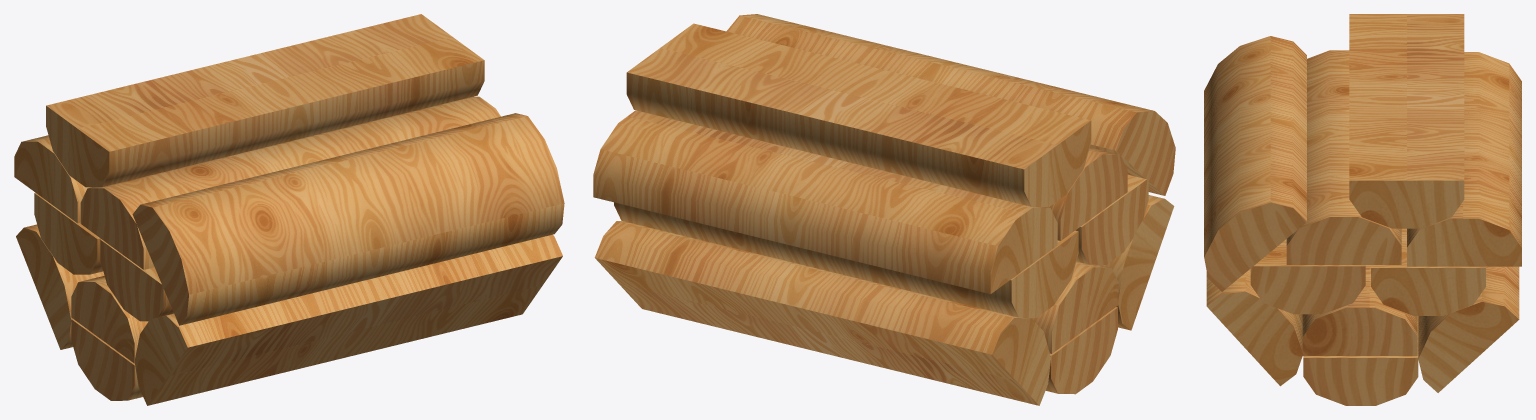
File: Fire_Wood.fbx
3 renders of one model, left to right at view 1: azimuth 30°, elevation 25°; view 2: azimuth 150°, elevation 25°; view 3: azimuth 270°, elevation 25°, orthographic. The views are drawn at different scales.
Parts seen in each view (by area): view 1: Fire_Wood.003, Fire_Wood.000, Fire_Wood.008, Fire_Wood.002, Fire_Wood.006, Fire_Wood.007, Fire_Wood.001, Fire_Wood.005, Fire_Wood.004, Fire_Wood.009; view 2: Fire_Wood.000, Fire_Wood.001, Fire_Wood.006, Fire_Wood.003, Fire_Wood.004, Fire_Wood.007, Fire_Wood.008, Fire_Wood.002, Fire_Wood.005, Fire_Wood.009; view 3: Fire_Wood.000, Fire_Wood.003, Fire_Wood.001, Fire_Wood.002, Fire_Wood.006, Fire_Wood.007, Fire_Wood.008, Fire_Wood.005, Fire_Wood.004, Fire_Wood.009.
Boxes of the visible parts, x1,y1,x2,y2 form: Fire_Wood.003: [132, 113, 564, 325]; Fire_Wood.000: [46, 14, 484, 187]; Fire_Wood.008: [135, 234, 562, 405]; Fire_Wood.002: [80, 96, 500, 269]; Fire_Wood.006: [16, 224, 104, 349]; Fire_Wood.007: [71, 276, 148, 363]; Fire_Wood.001: [14, 135, 91, 223]; Fire_Wood.005: [100, 239, 173, 321]; Fire_Wood.004: [34, 192, 102, 274]; Fire_Wood.009: [71, 319, 142, 400]; Fire_Wood.000: [626, 23, 1091, 207]; Fire_Wood.001: [593, 110, 1057, 294]; Fire_Wood.006: [594, 221, 1050, 405]; Fire_Wood.003: [726, 14, 1175, 195]; Fire_Wood.004: [614, 202, 1078, 317]; Fire_Wood.007: [1031, 261, 1118, 353]; Fire_Wood.008: [1100, 195, 1174, 330]; Fire_Wood.002: [1047, 147, 1127, 240]; Fire_Wood.005: [1075, 174, 1148, 264]; Fire_Wood.009: [1045, 307, 1117, 394]; Fire_Wood.000: [1349, 14, 1464, 228]; Fire_Wood.003: [1204, 36, 1306, 291]; Fire_Wood.001: [1407, 52, 1521, 266]; Fire_Wood.002: [1286, 50, 1401, 264]; Fire_Wood.006: [1418, 266, 1519, 392]; Fire_Wood.007: [1302, 265, 1417, 355]; Fire_Wood.008: [1206, 269, 1303, 386]; Fire_Wood.005: [1250, 239, 1365, 314]; Fire_Wood.004: [1371, 228, 1485, 315]; Fire_Wood.009: [1303, 316, 1418, 405].
Size of the model in its own units: 64.64 by 40.74 by 52.06.
